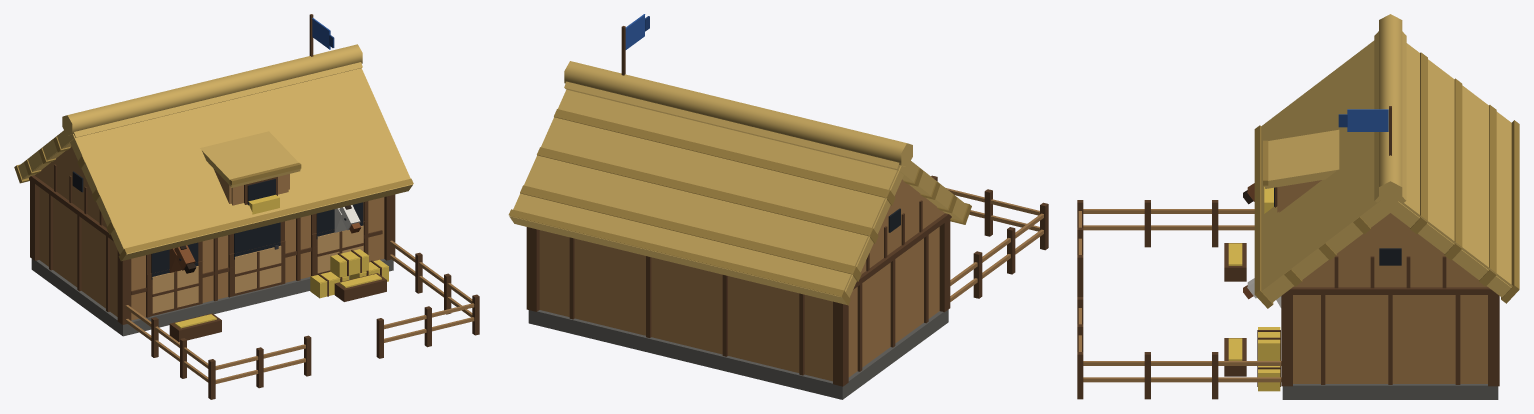
The model's file is stable.glb.
3 views of the same model, side by side, from view 1: azimuth 30°, elevation 25°; view 2: azimuth 150°, elevation 25°; view 3: azimuth 270°, elevation 25° (orthographic). The views are drawn at different scales.
Visible parts, largest first — view 1: stable; view 2: stable; view 3: stable.
Boxes of the visible parts, <box> form: stable: <box>14,14,479,399</box>; stable: <box>508,14,1048,399</box>; stable: <box>1077,14,1519,399</box>.
Size of the model in its own units: 8.8 by 6.69 by 9.85.
1 material, 1 textured.
